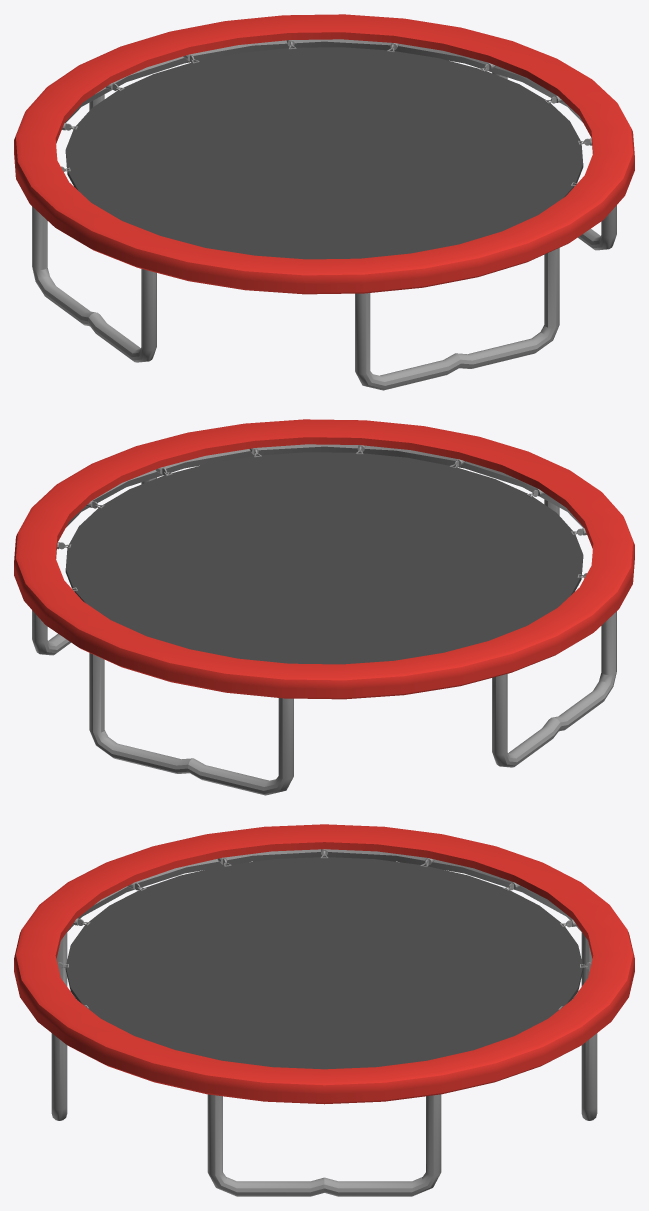
Rendered from trampoline.fbx.
3 views of the same model, one above another, from view 1: azimuth 30°, elevation 25°; view 2: azimuth 150°, elevation 25°; view 3: azimuth 270°, elevation 25° (orthographic).
Visible parts, largest first — view 1: Trampoline; view 2: Trampoline; view 3: Trampoline.
Boxes of the visible parts, x1=… form: Trampoline: x1=14, y1=14, x2=634, y2=390; Trampoline: x1=14, y1=419, x2=634, y2=795; Trampoline: x1=14, y1=824, x2=634, y2=1196.
Size of the model in its own units: 240 by 240 by 55.82.
